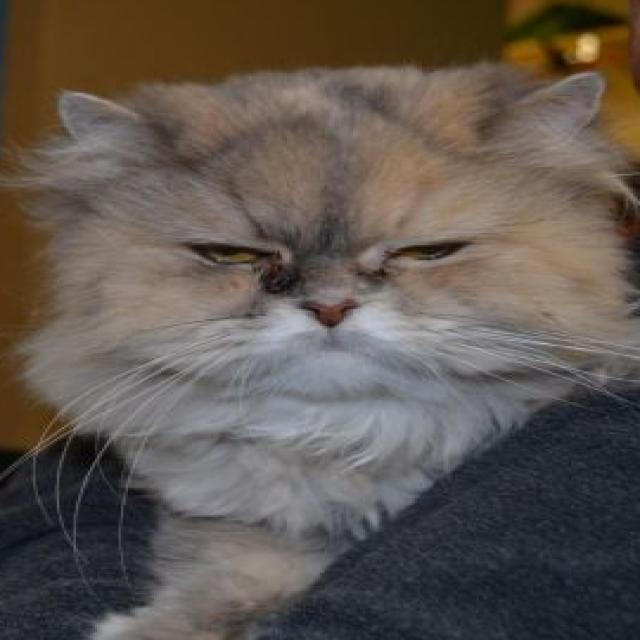Persian: (2, 55, 639, 640)
